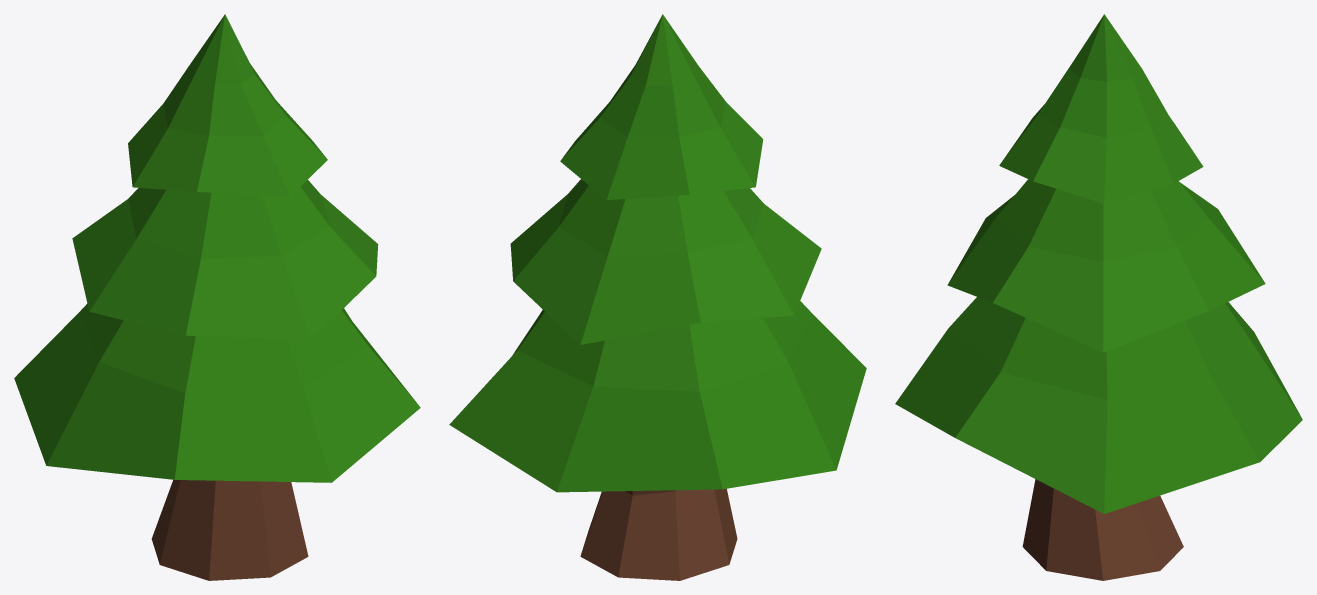
File: Pine_Tree_Green_Geo.fbx
The picture shows the model from 3 angles, left to right: view 1: azimuth 30°, elevation 25°; view 2: azimuth 150°, elevation 25°; view 3: azimuth 270°, elevation 25°; orthographic projection.
Visible parts, largest first — view 1: Pine_Tree_Green_Geo; view 2: Pine_Tree_Green_Geo; view 3: Pine_Tree_Green_Geo.
Boxes of the visible parts, box(x1,y1,x2,y2) form: Pine_Tree_Green_Geo: box(14, 14, 420, 580); Pine_Tree_Green_Geo: box(449, 14, 866, 580); Pine_Tree_Green_Geo: box(895, 14, 1302, 580).
Bounding box in the file's own units: 111 × 163 × 113.
